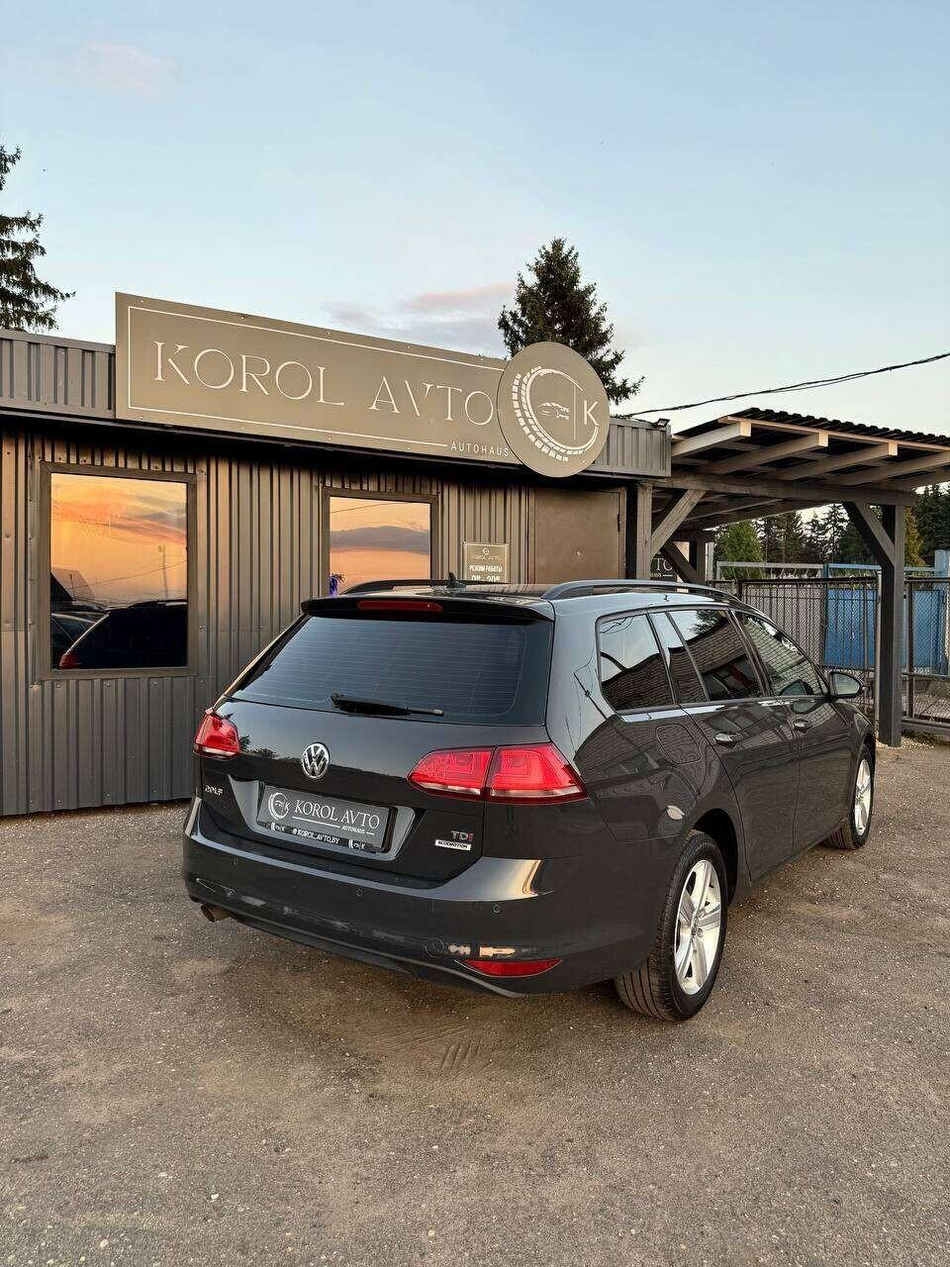Golf_2012-2017: (181, 565, 897, 1017)
